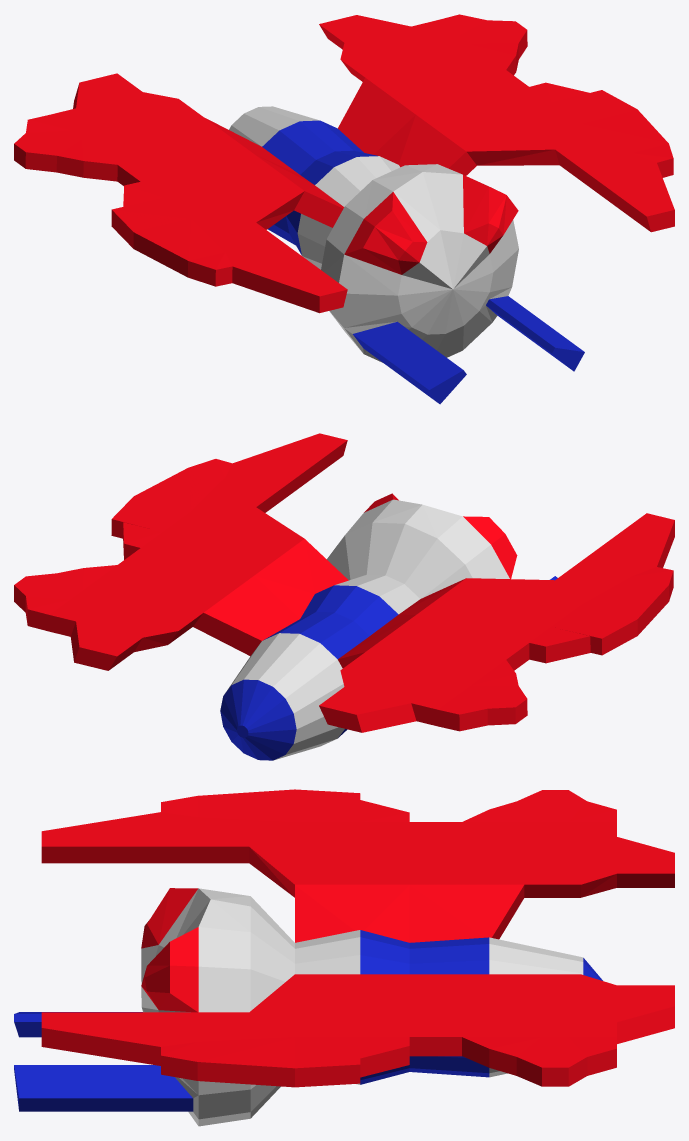
File: Guei_Textured.dae
3 views of the same model, one above another, from view 1: azimuth 30°, elevation 25°; view 2: azimuth 150°, elevation 25°; view 3: azimuth 270°, elevation 25° (orthographic). The views are drawn at different scales.
Parts seen in each view (by area): view 1: Cylinder; view 2: Cylinder; view 3: Cylinder.
Part boxes in pixels (box(x1,y1,x2,y2)): Cylinder: box(14, 14, 674, 404); Cylinder: box(14, 433, 674, 760); Cylinder: box(14, 789, 674, 1126).
Bounding box in the file's own units: 10.22 × 10.23 × 3.69.
